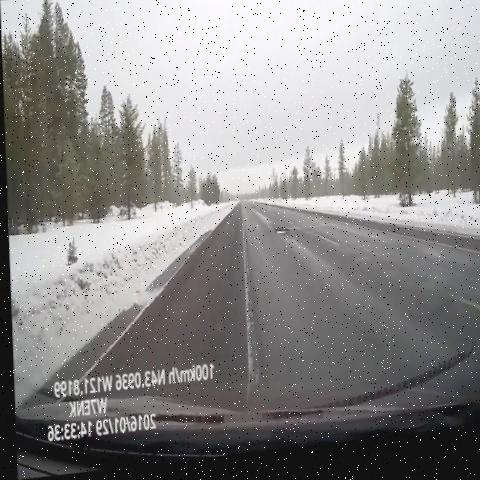pothole: (264, 227, 294, 251), (243, 205, 257, 220)
